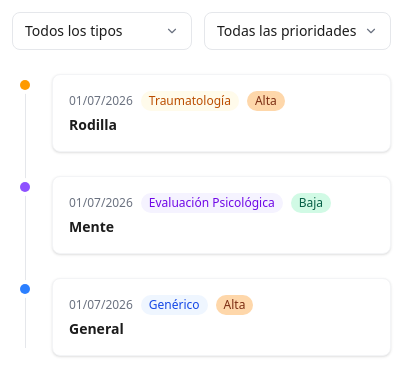
SeguimientosTimeline › filtros › filtra por prioridad
Click the button with id "filtro-prioridad-seguimiento". click: (298, 31)
box: [204,12,392,50]
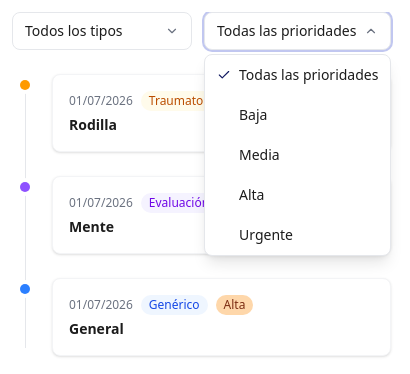
Click the button "Alta". click: (298, 195)
box: [205,175,390,215]
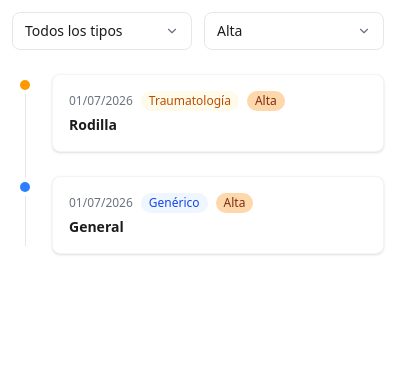
Expected: the text "Rodilla" is shown, [69,115,117,134]
Result: the link "Mente" is gone
